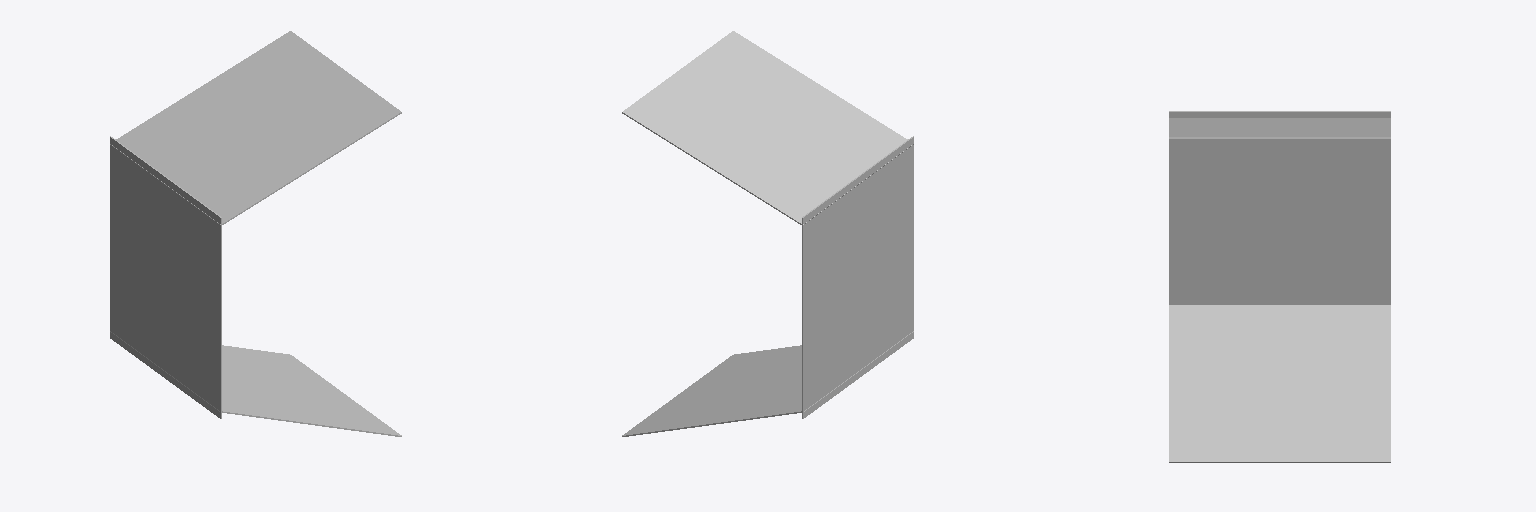
File: background.obj
The picture shows the model from 3 angles: view 1: azimuth 30°, elevation 25°; view 2: azimuth 150°, elevation 25°; view 3: azimuth 270°, elevation 25°; orthographic projection.
Parts seen in each view (by area): view 1: Cube.001, Cube.003, Cube.002; view 2: Cube.001, Cube.003, Cube.002; view 3: Cube.003, Cube.002, Cube.001.
Boxes of the visible parts, <box> form: Cube.001: <box>110,31,401,225</box>; Cube.003: <box>110,136,221,418</box>; Cube.002: <box>110,331,401,436</box>; Cube.001: <box>622,31,913,225</box>; Cube.003: <box>802,136,913,418</box>; Cube.002: <box>622,331,913,436</box>; Cube.003: <box>1169,111,1390,304</box>; Cube.002: <box>1169,305,1390,462</box>; Cube.001: <box>1169,118,1390,138</box>.
Size of the model in its own units: 1.41 by 2.42 by 1.5.